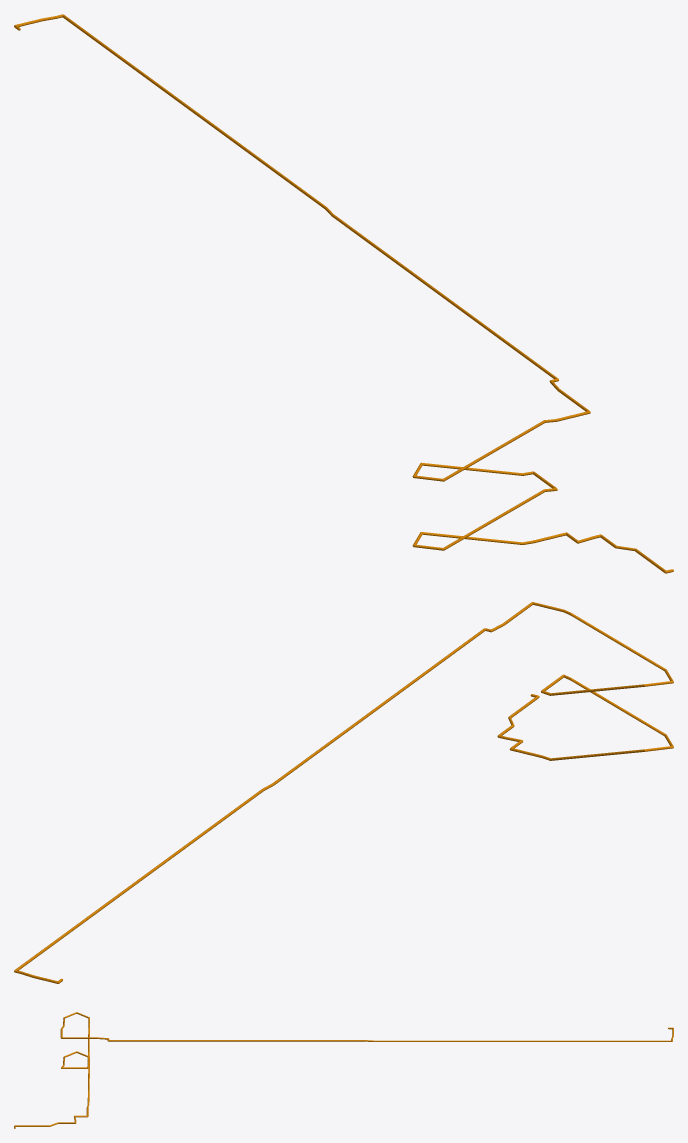
3 views of the same model, one above another, from view 1: azimuth 30°, elevation 25°; view 2: azimuth 150°, elevation 25°; view 3: azimuth 270°, elevation 25° (orthographic). The views are drawn at different scales.
Bounding box in the file's own units: 1563 × 1020 × 7629.
